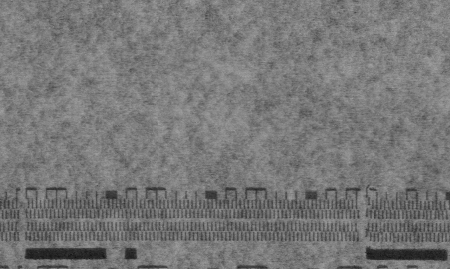Oblique printing: (362, 195, 375, 220), (363, 221, 373, 243), (383, 199, 396, 212)
